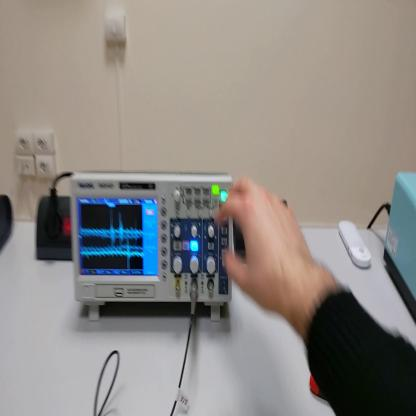hand: (215, 174, 313, 321)
oscilloscope: (66, 167, 233, 321)
socket: (33, 192, 74, 266), (1, 192, 15, 253)
welder station: (381, 171, 416, 324)
